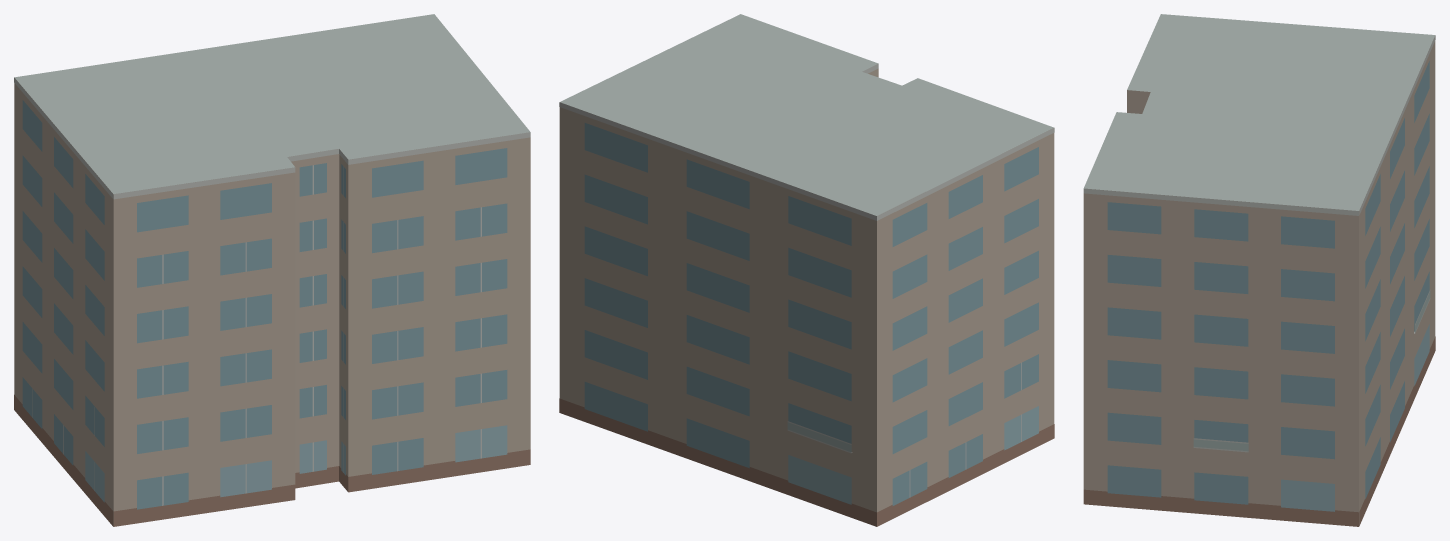
Rendered from survey-upis-33039810.glb.
3 renders of one model, left to right at view 1: azimuth 30°, elevation 25°; view 2: azimuth 150°, elevation 25°; view 3: azimuth 270°, elevation 25°, orthographic. The views are drawn at different scales.
Parts seen in each view (by area): view 1: survey-upis-33039810.tmp; view 2: survey-upis-33039810.tmp; view 3: survey-upis-33039810.tmp.
Boxes of the visible parts, left/top/right/bottom form: survey-upis-33039810.tmp: left=14, top=14, right=530, bottom=526; survey-upis-33039810.tmp: left=559, top=14, right=1054, bottom=526; survey-upis-33039810.tmp: left=1083, top=14, right=1435, bottom=526.
Size of the model in its own units: 20.88 by 15.6 by 15.76.
